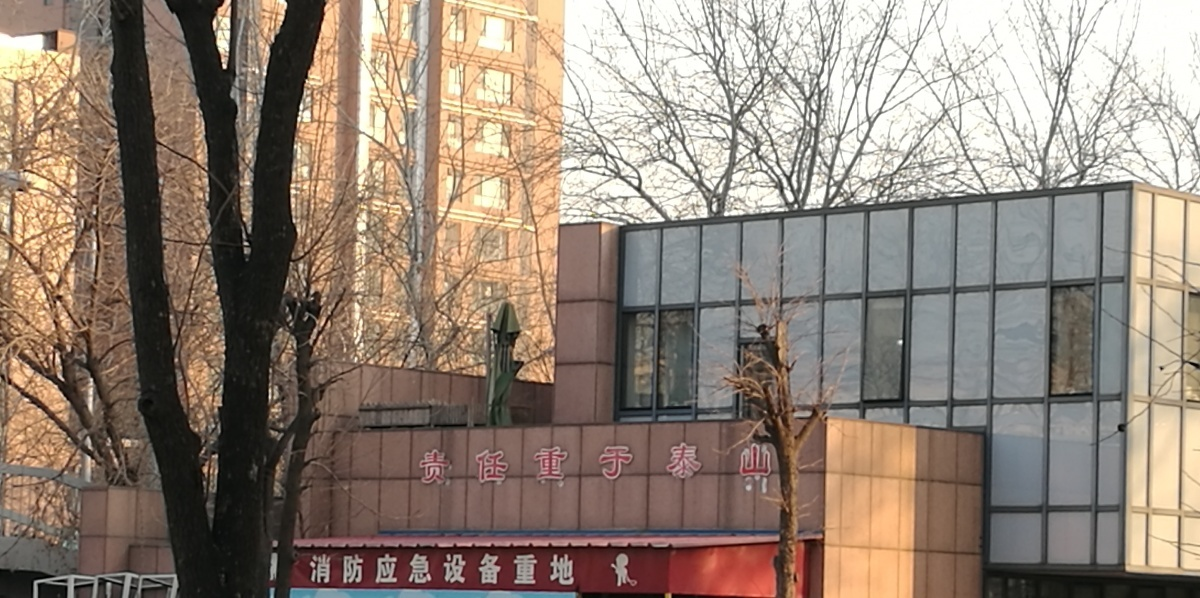text: (433, 441, 448, 487), (449, 441, 464, 487), (465, 441, 480, 487), (481, 441, 496, 487), (497, 441, 512, 487), (513, 441, 528, 487), (529, 441, 544, 487), (545, 441, 560, 487), (561, 441, 576, 487), (577, 441, 592, 487), (593, 441, 608, 487), (609, 441, 624, 487), (625, 441, 640, 487), (641, 441, 656, 487), (657, 441, 672, 487), (673, 441, 688, 487), (689, 441, 704, 487), (705, 441, 720, 487), (721, 441, 736, 487), (737, 441, 752, 487), (753, 441, 768, 487), (418, 441, 432, 487), (561, 553, 577, 587), (321, 553, 336, 587), (337, 553, 352, 587), (353, 553, 368, 587), (369, 553, 384, 587), (385, 553, 400, 587), (401, 553, 416, 587), (417, 553, 432, 587), (433, 553, 448, 587), (449, 553, 464, 587), (465, 553, 480, 587), (481, 553, 496, 587), (497, 553, 512, 587), (513, 553, 528, 587), (529, 553, 544, 587), (545, 553, 560, 587), (308, 553, 320, 587), (769, 441, 774, 487)
